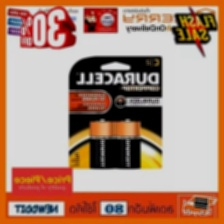battery: (111, 116, 142, 170), (86, 117, 116, 170)
